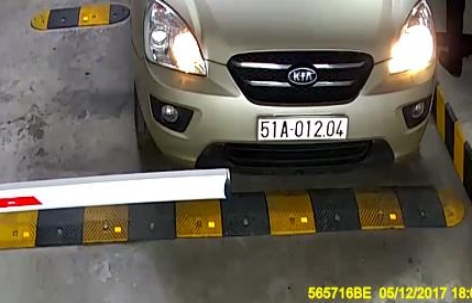plate: (244, 109, 357, 146)
